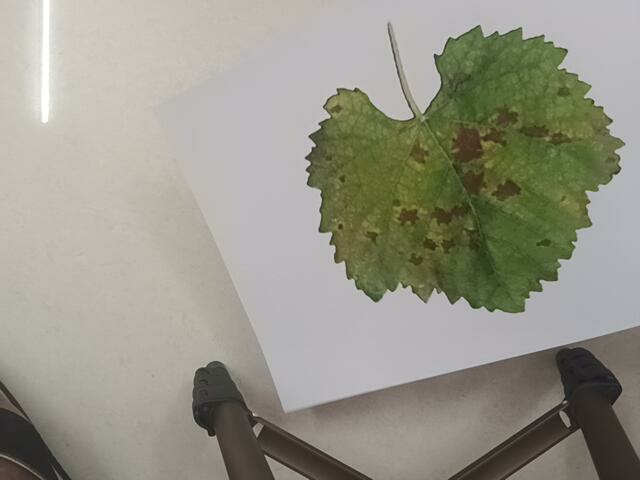Grape_Leaf_Vine_Disease: (287, 30, 621, 336)
